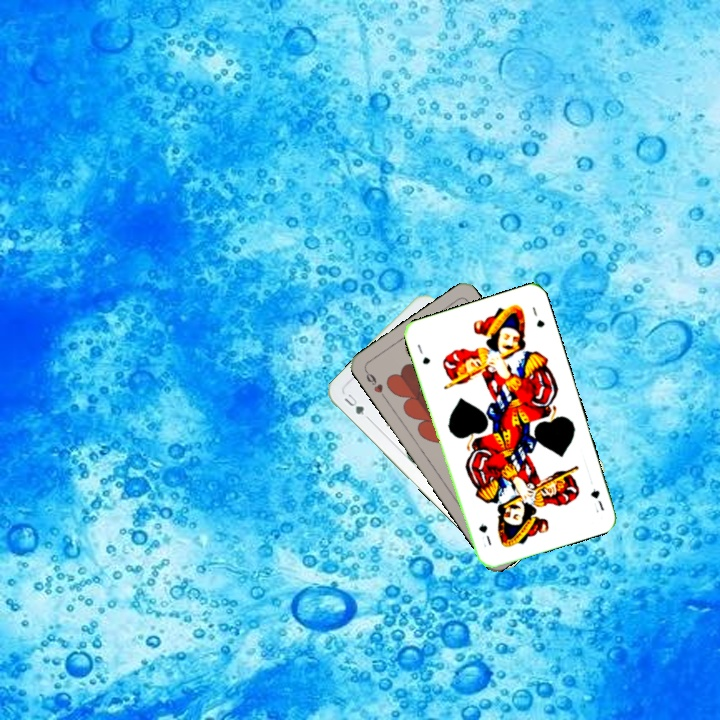GU: (340, 390, 367, 418), (586, 485, 607, 515), (413, 340, 433, 367)
H9: (361, 366, 389, 402)
